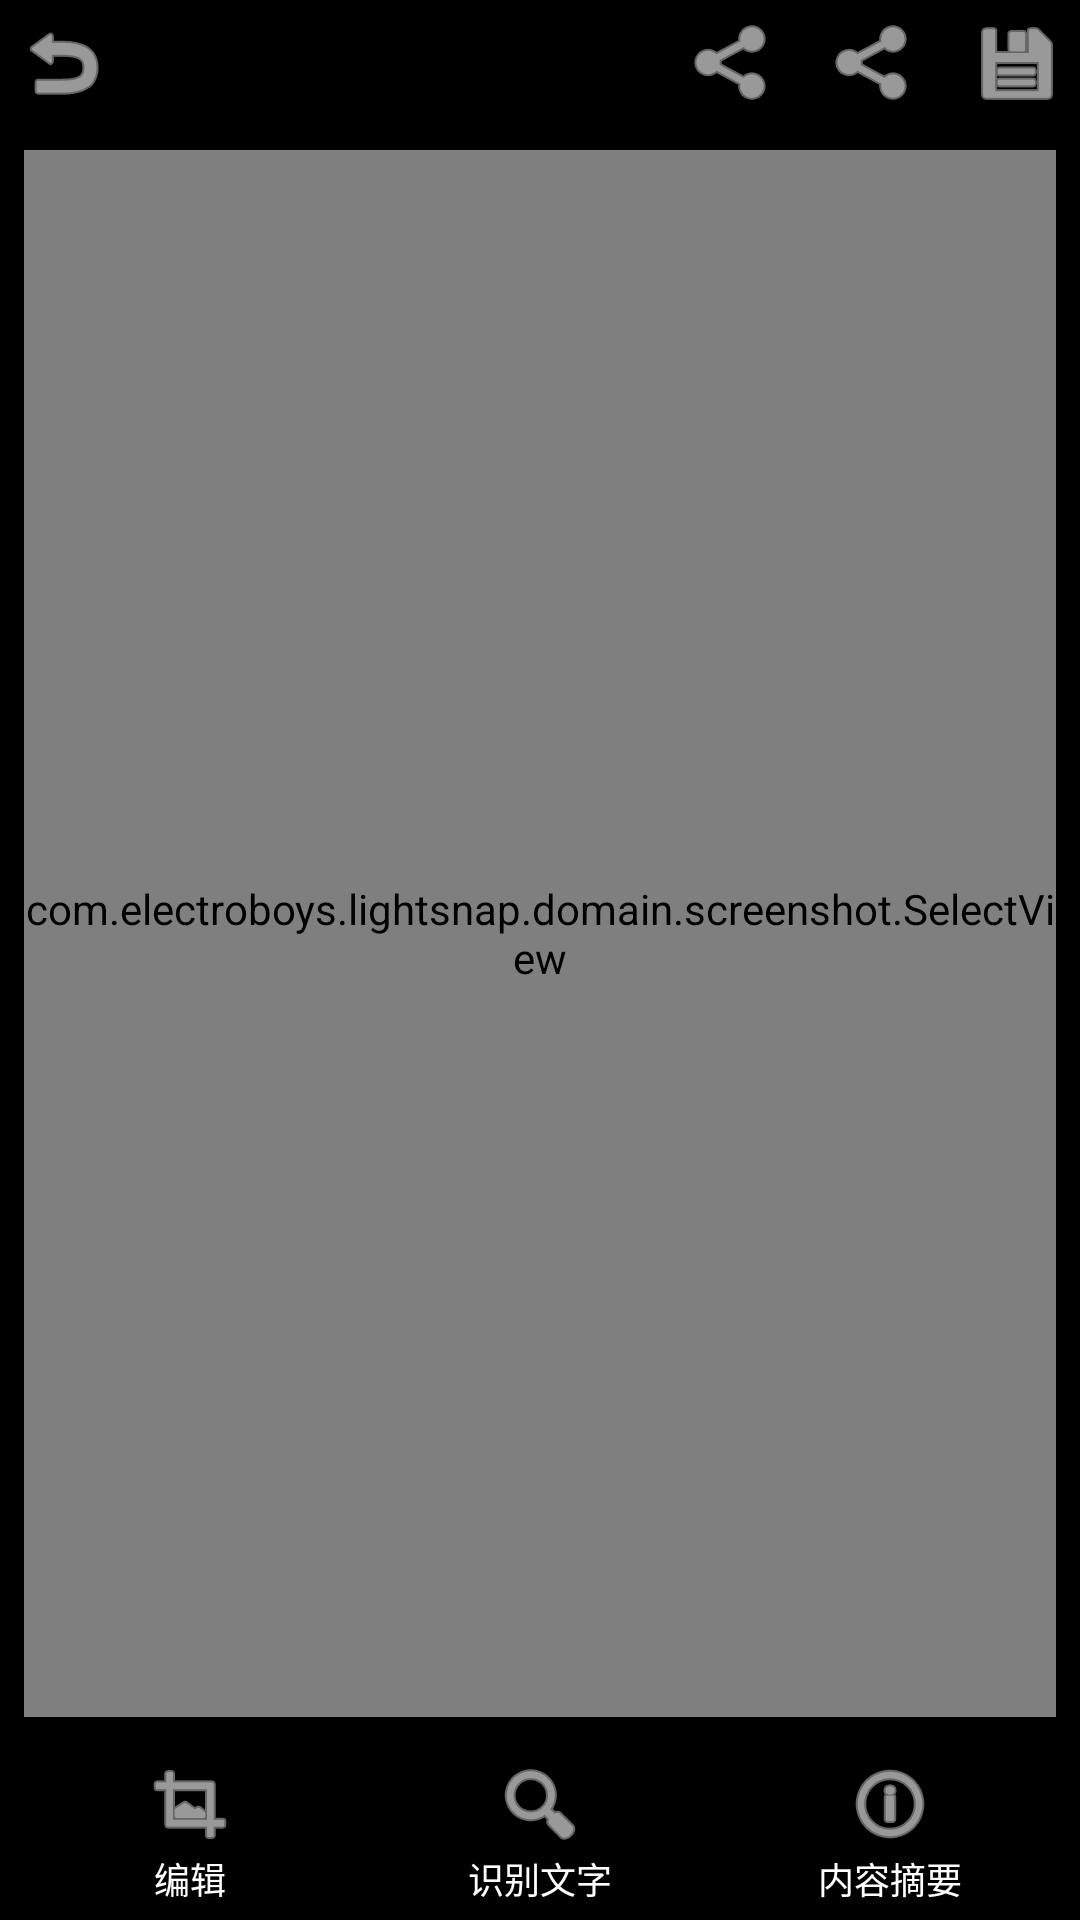

Icons on this 1080 x 1920 Android screen, each with its box as (x1, y1, x2, y2):
crop: (153, 1770, 227, 1839)
info details: (855, 1769, 925, 1839)
search: (504, 1769, 576, 1840)
保存: (981, 27, 1053, 100)
返回: (30, 32, 99, 95)
